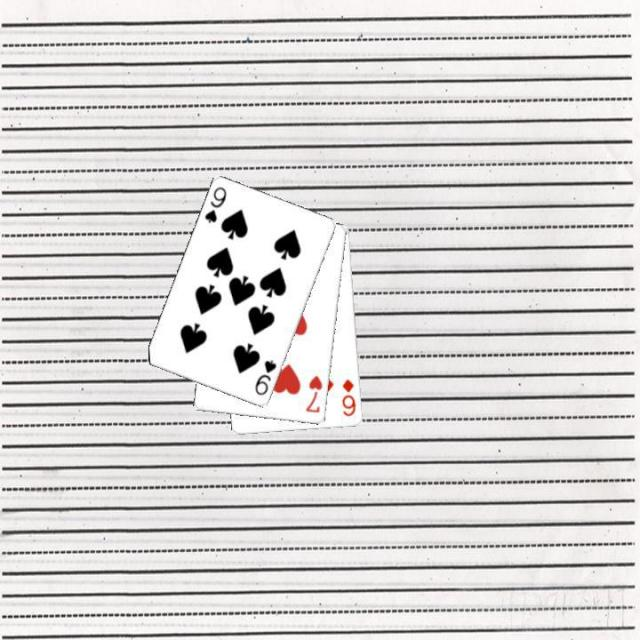6D: (339, 375, 358, 419)
7H: (302, 372, 324, 415)
9S: (201, 183, 228, 225), (251, 357, 278, 398)
